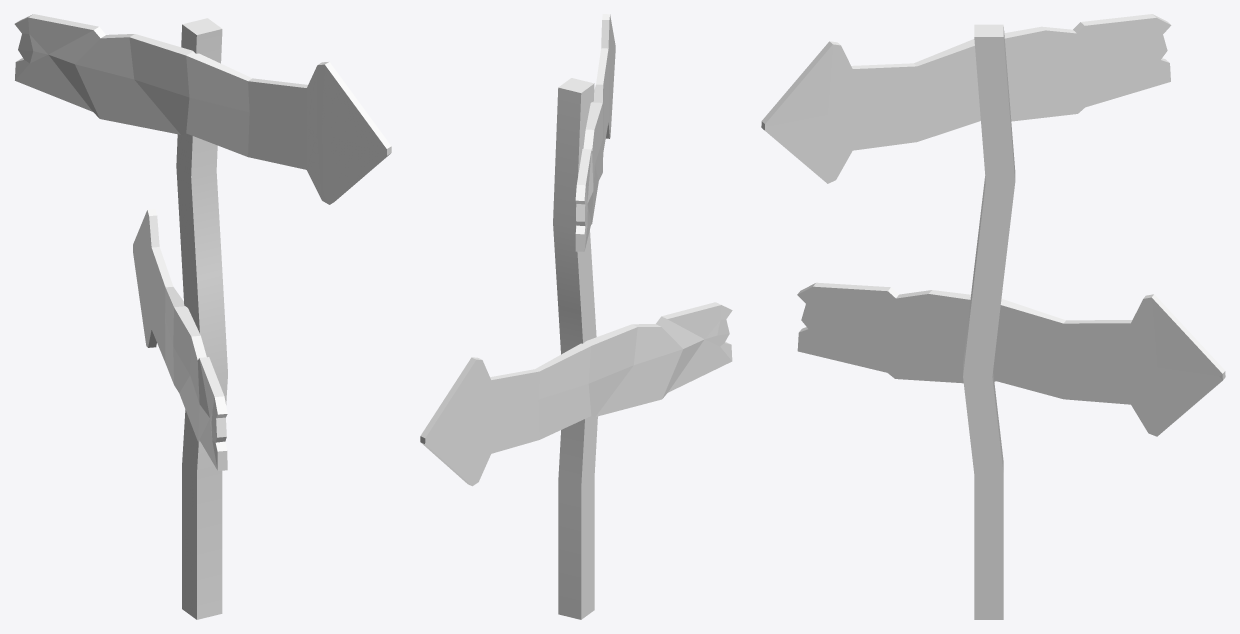
File: señal6.fbx
3 renders of one model, left to right at view 1: azimuth 30°, elevation 25°; view 2: azimuth 150°, elevation 25°; view 3: azimuth 270°, elevation 25°, orthographic. The views are drawn at different scales.
Visible parts, largest first — view 1: señal4; view 2: señal4; view 3: señal4.
Boxes of the visible parts, box(x1,y1,x2,y2) form: señal4: box(14, 14, 391, 619); señal4: box(420, 14, 732, 619); señal4: box(761, 14, 1225, 619).
Size of the model in its own units: 176 by 571 by 405.
